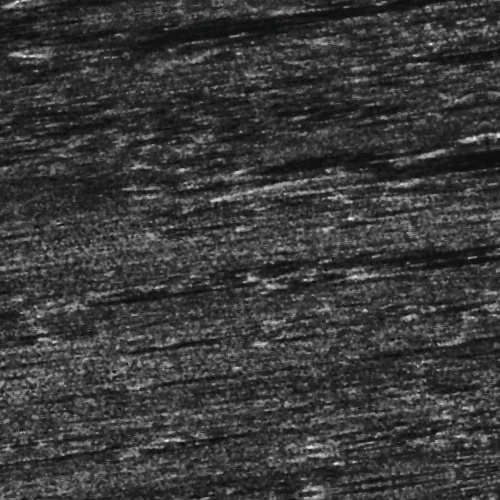object: (164, 181, 331, 200), (32, 275, 105, 286), (325, 284, 418, 291), (454, 161, 495, 170), (259, 489, 322, 494), (210, 170, 241, 173), (492, 275, 500, 282)
shadow: (248, 181, 500, 200), (68, 275, 240, 286), (372, 284, 500, 291), (225, 170, 500, 173), (291, 489, 411, 494), (0, 438, 16, 445)
